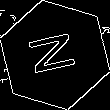N_E: (25, 30, 85, 80)
